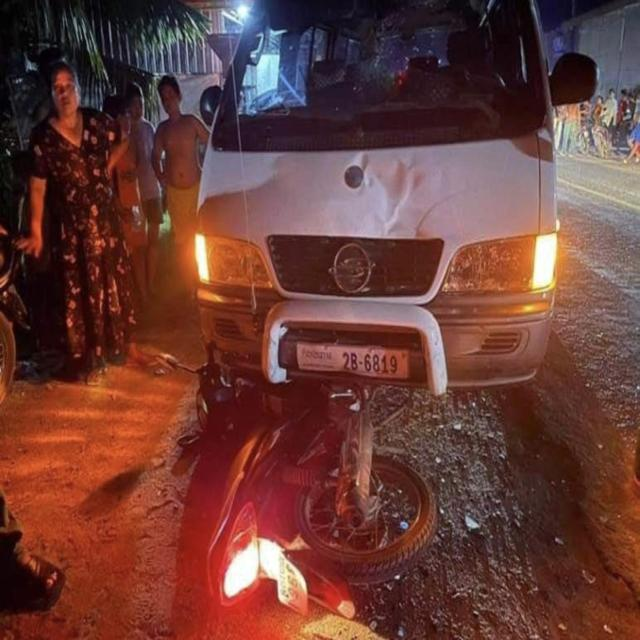Kampong_Cham: (302, 348, 332, 360)
